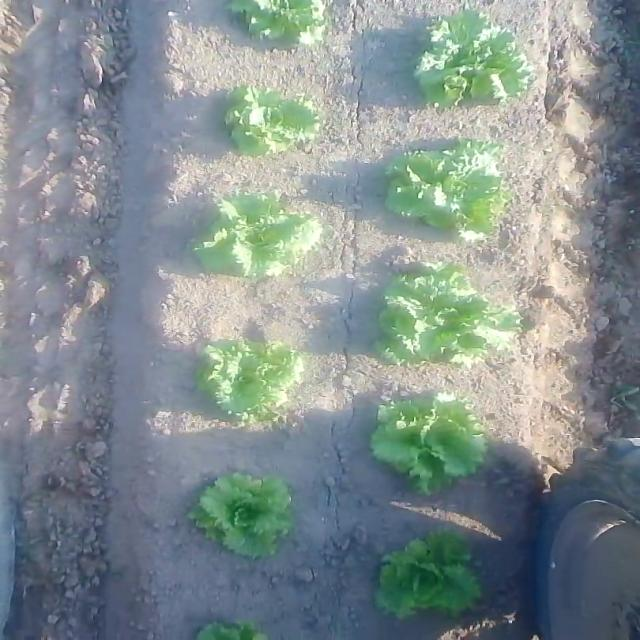Lettuce-Ready-to-Harvest: (386, 256, 512, 360), (398, 142, 513, 234), (194, 337, 304, 428), (376, 391, 482, 478), (198, 464, 292, 559), (384, 546, 482, 610)
